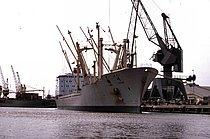Ship: (49, 19, 162, 116)
